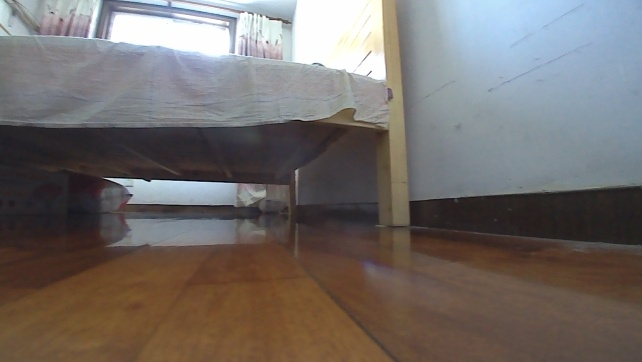bed: (0, 0, 417, 232)
